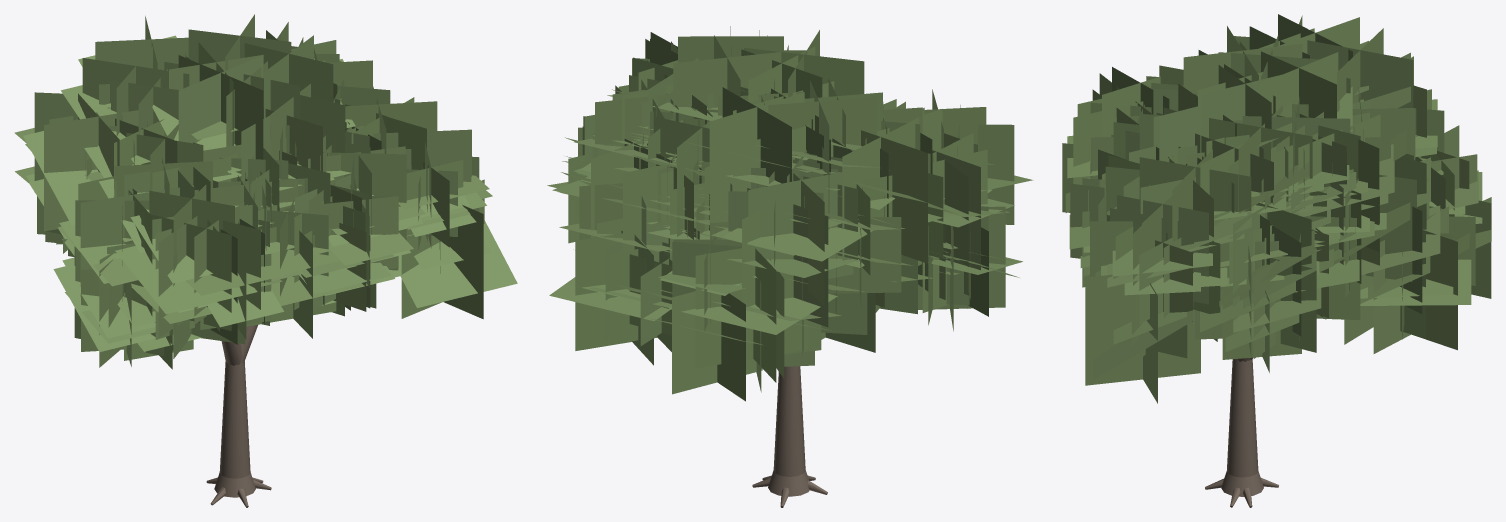
Rendered from chestnut.glb.
3 renders of one model, left to right at view 1: azimuth 30°, elevation 25°; view 2: azimuth 150°, elevation 25°; view 3: azimuth 270°, elevation 25°, orthographic. The views are drawn at different scales.
Visible parts, largest first — view 1: chestnut; view 2: chestnut; view 3: chestnut.
Boxes of the visible parts, box(x1,y1,x2,y2) form: chestnut: box(14, 14, 517, 507); chestnut: box(547, 26, 1033, 507); chestnut: box(1062, 14, 1491, 507).
Bounding box in the file's own units: 12.19 × 12.85 × 11.35.
